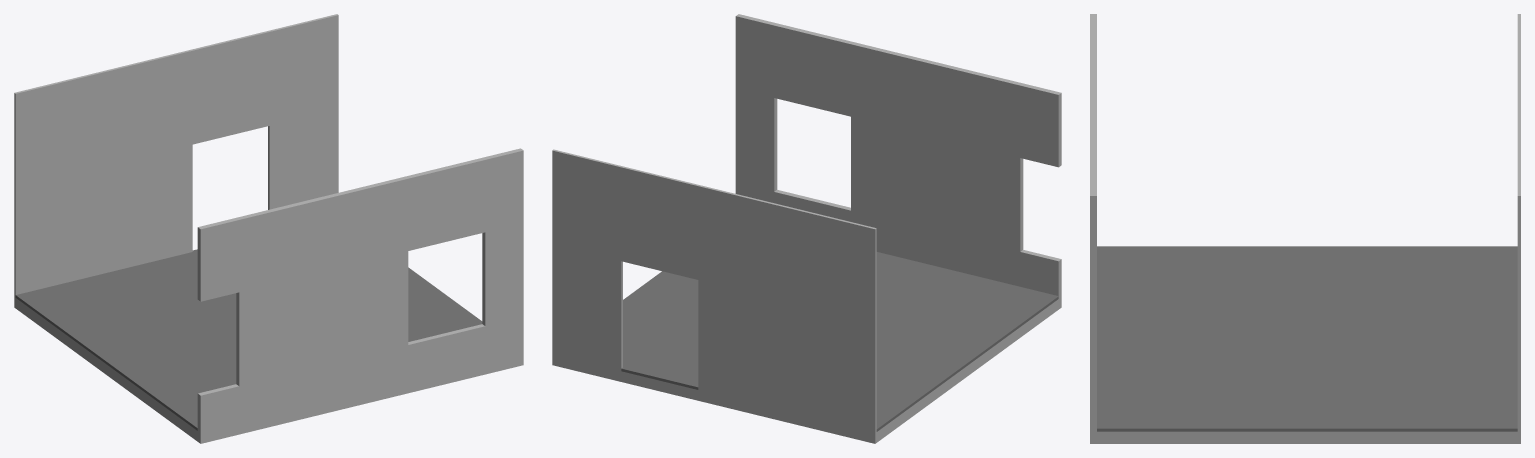
File: 4x2 third (1)-3.obj
3 views of the same model, side by side, from view 1: azimuth 30°, elevation 25°; view 2: azimuth 150°, elevation 25°; view 3: azimuth 270°, elevation 25° (orthographic). The views are drawn at different scales.
Parts seen in each view (by area): view 1: 4x2 third (1)-3; view 2: 4x2 third (1)-3; view 3: 4x2 third (1)-3.
Boxes of the visible parts, left/top/right/bottom form: 4x2 third (1)-3: left=14, top=14, right=523, bottom=443; 4x2 third (1)-3: left=552, top=14, right=1061, bottom=443; 4x2 third (1)-3: left=1090, top=14, right=1520, bottom=443.
Size of the model in its own units: 126 by 80 by 126.
Materials: 1 (1 with a texture image).
